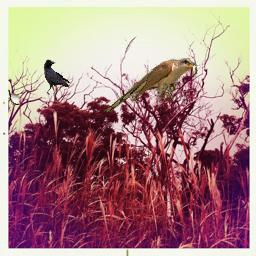Crow: (43, 59, 71, 95)
Cuckoo: (104, 58, 198, 113)
Swallow: (8, 89, 20, 105)
